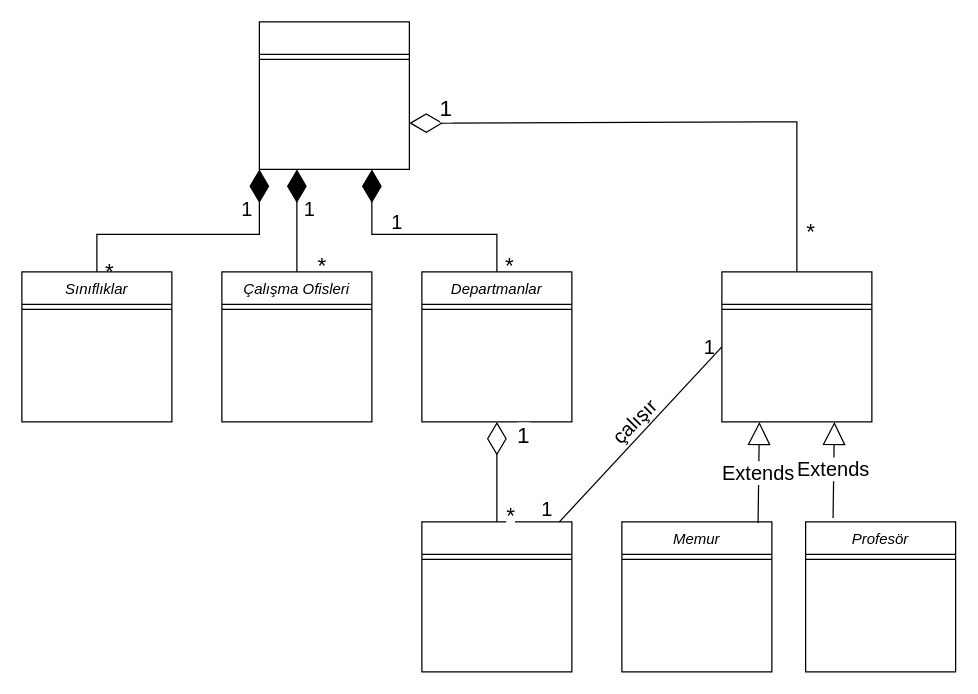
The diagram is 978 pixels wide and 694 high, and some of its shapes have lost their labels. Here are the shapes that lost their labels. From the top down, the centre of each, then its label:
At (x=333, y=95): "Üniversite".
At (x=796, y=346): "Çalışan".
At (x=496, y=596): "Ofis".
